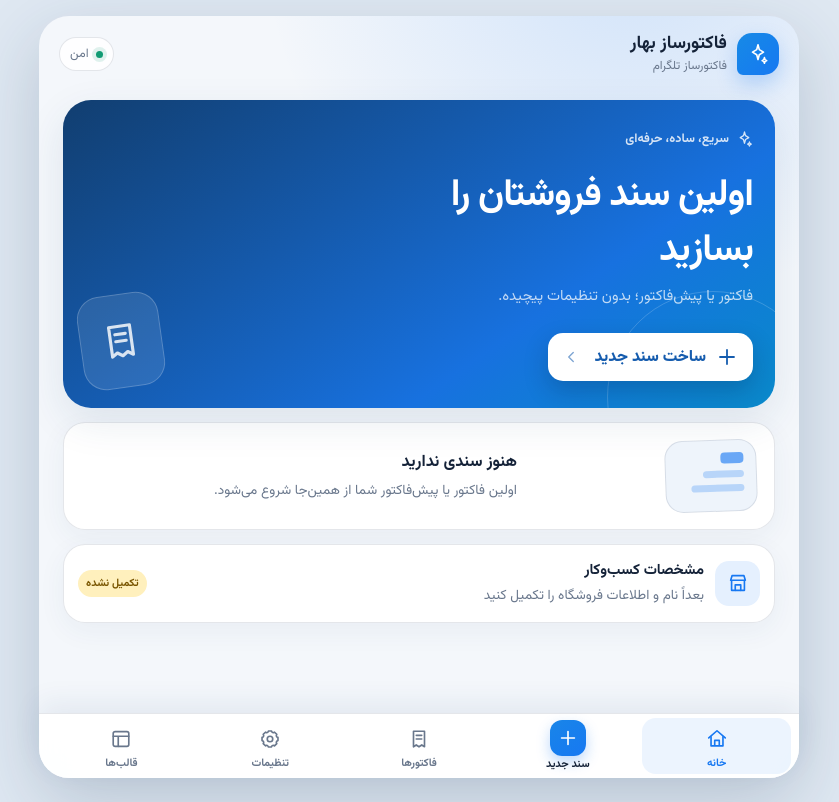
Test: G02 app shell › offers the real empty home and keyboard-accessible navigation
This screenshot has width=839, height=802.
Expected: the text "فاکتورساز بهار" is shown, [630, 33, 727, 57]
Expected: the heading "اولین سند فروشتان را بسازید" is shown, [451, 166, 753, 280]
Click the button "فاکتورها" at {"x": 419, "y": 746}, box [345, 718, 493, 774]
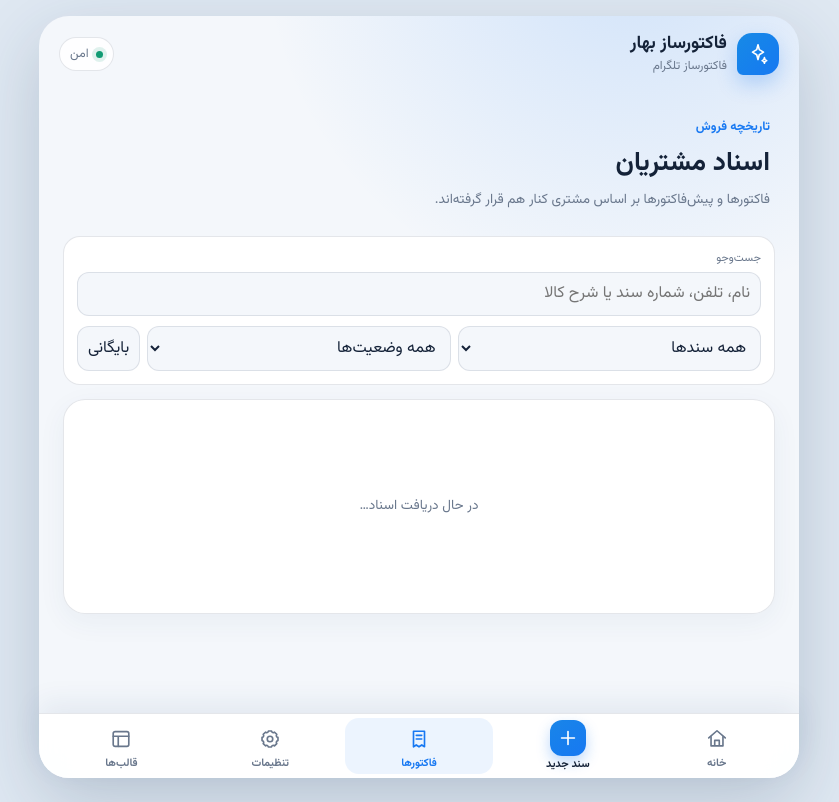
Now the heading "اسناد مشتریان" is shown, box [616, 143, 770, 184]
Click the button "تنظیمات" at {"x": 270, "y": 746}, box [196, 718, 345, 774]
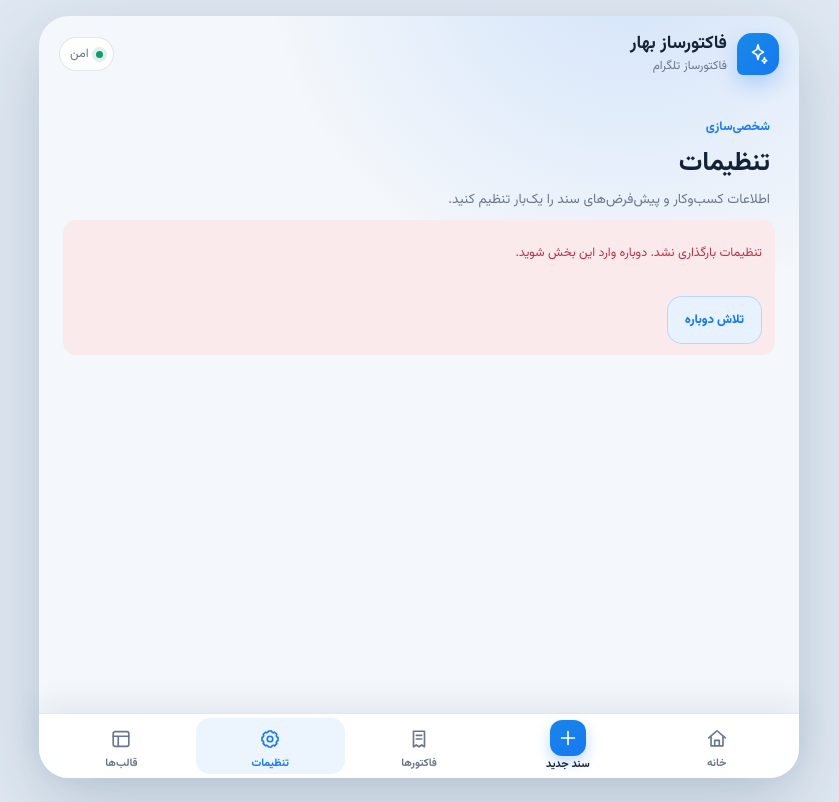
Now the heading "تنظیمات" is shown, box [679, 143, 770, 184]
